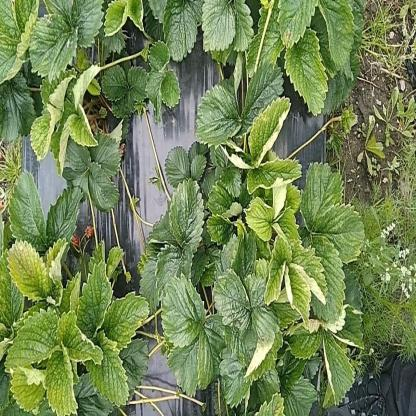ripe: (83, 224, 94, 239), (70, 234, 80, 250)
